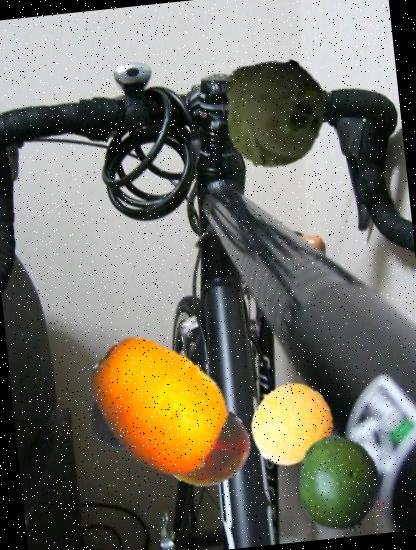Avocado: (82, 370, 163, 451)
Cantaloupe: (243, 377, 336, 470)
Kohlrabi: (207, 49, 332, 173)
Kumquats: (77, 324, 241, 488)
Mango: (286, 430, 394, 538)
Tomato: (158, 400, 254, 495)
